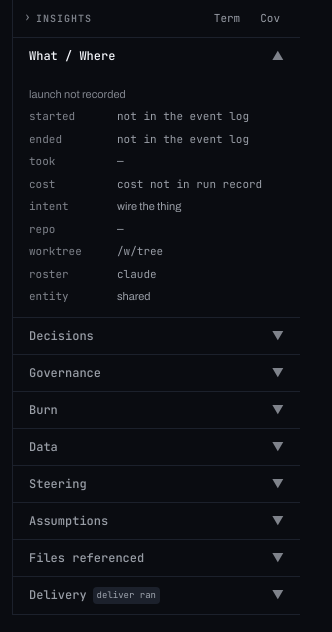
the rail keeps its shape (revised EC54) › D1: the badge cannot contradict its own body — the 665a9aeb shape, both halves
What coordinates should you click on to do the following:
click the button "Delivery deliver ran ▼"
I would click on:
 (156, 595)
Its box is [13, 576, 300, 614].
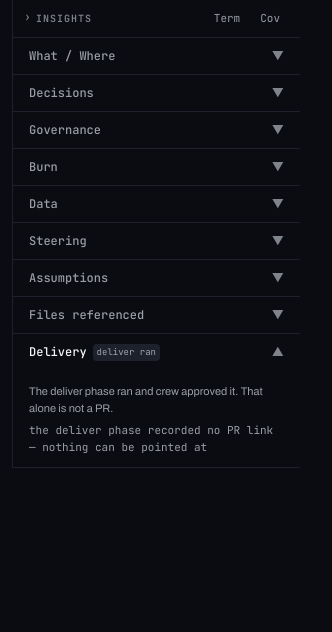
Expected: the text with test id "run-delivery-badge" reads "deliver ran", [97, 346, 156, 358]
Expected: the text with test id "run-delivery-nolink" reads "the deliver phase recorded no PR link — nothing can be pointed at", [29, 423, 273, 454]
Expected: the element with test id "run-delivery" shows "The deliver phase ran and crew approved it. That alone is not a PR.", [29, 385, 263, 414]
